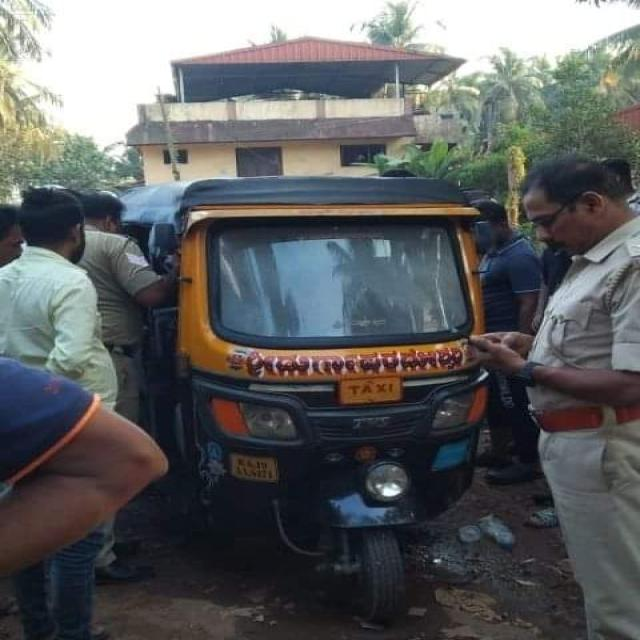autorickshaw: (122, 178, 488, 620)
